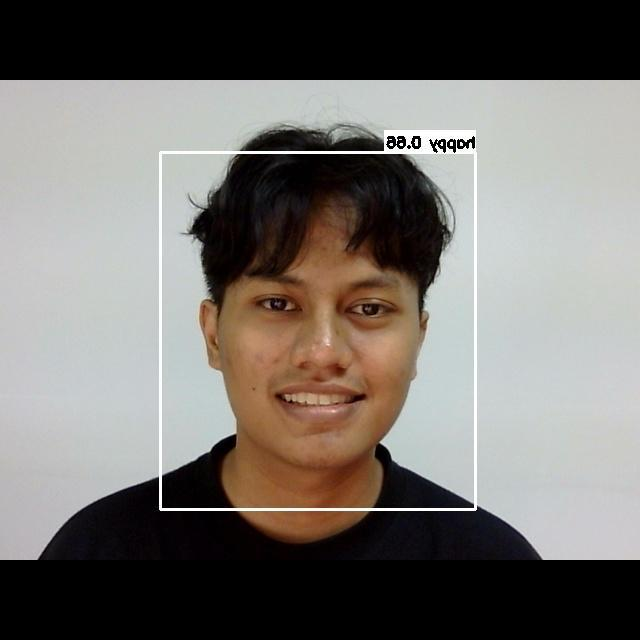Happy: (222, 246, 414, 452)
